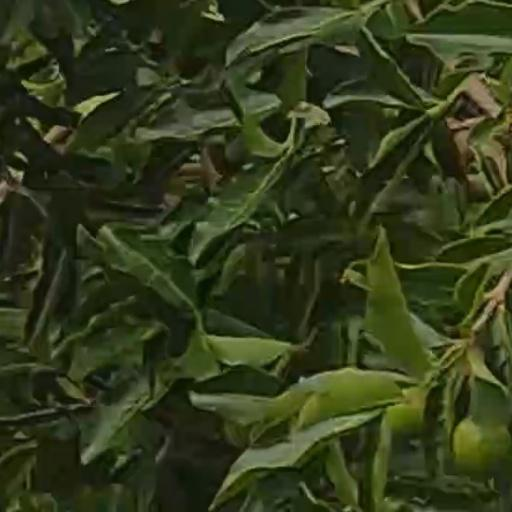acerola_verde: (453, 418, 508, 470)
